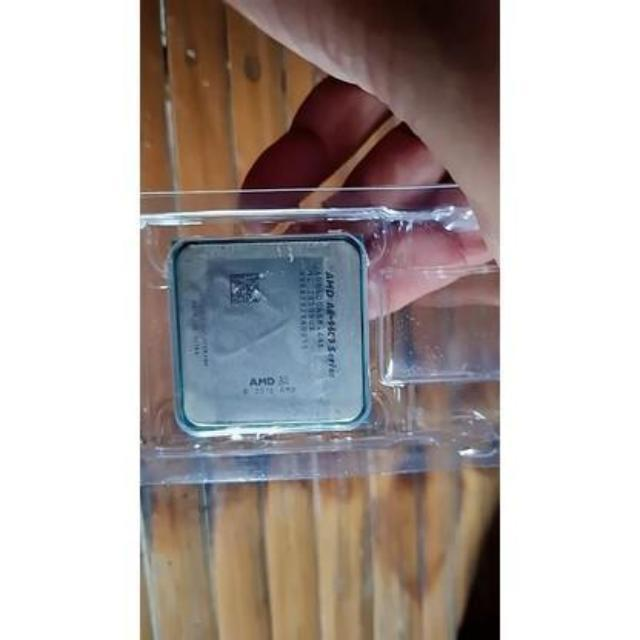CPU: (168, 241, 370, 427)
